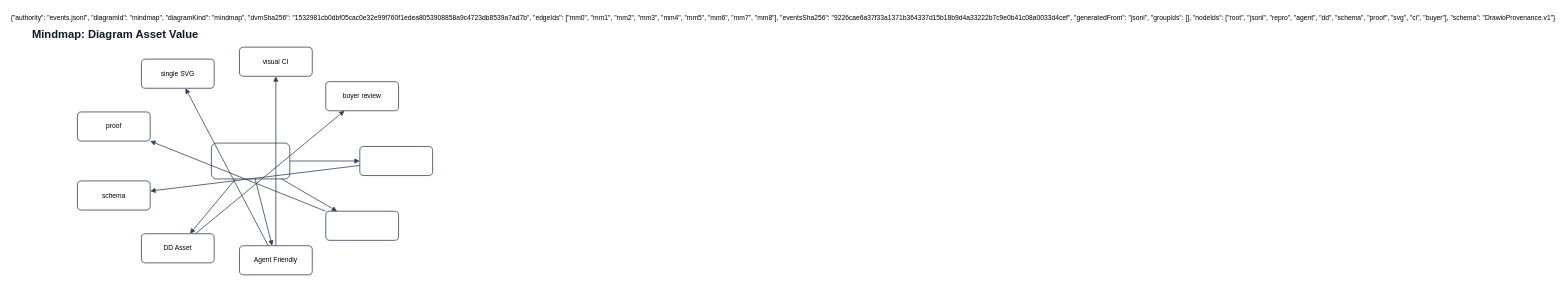
Some shapes in this 1565 by 284 pixel diagram are drawn without their labels. The shapes that lost their labels are listed below. From the top down, each one's centre as x and y in pixels, then its label:
At (250,160): "Diagram Asset".
At (396,161): "JSONL Authority".
At (362,225): "Reproducible".
